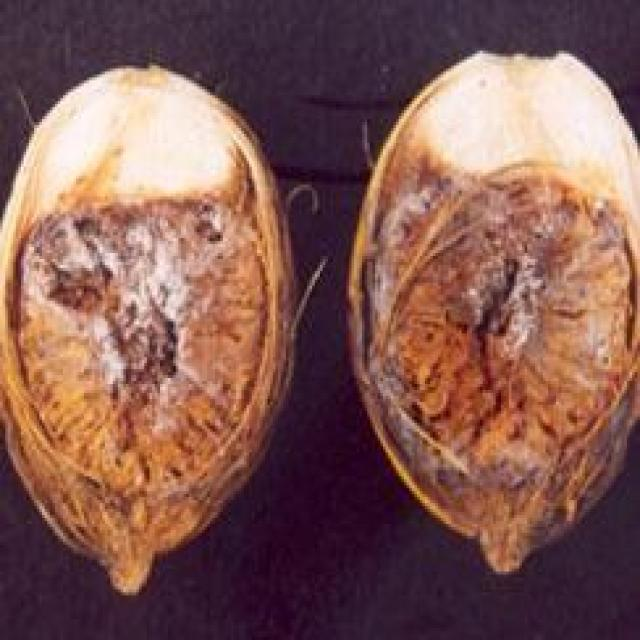damaged: (0, 65, 291, 592), (349, 54, 637, 569)
